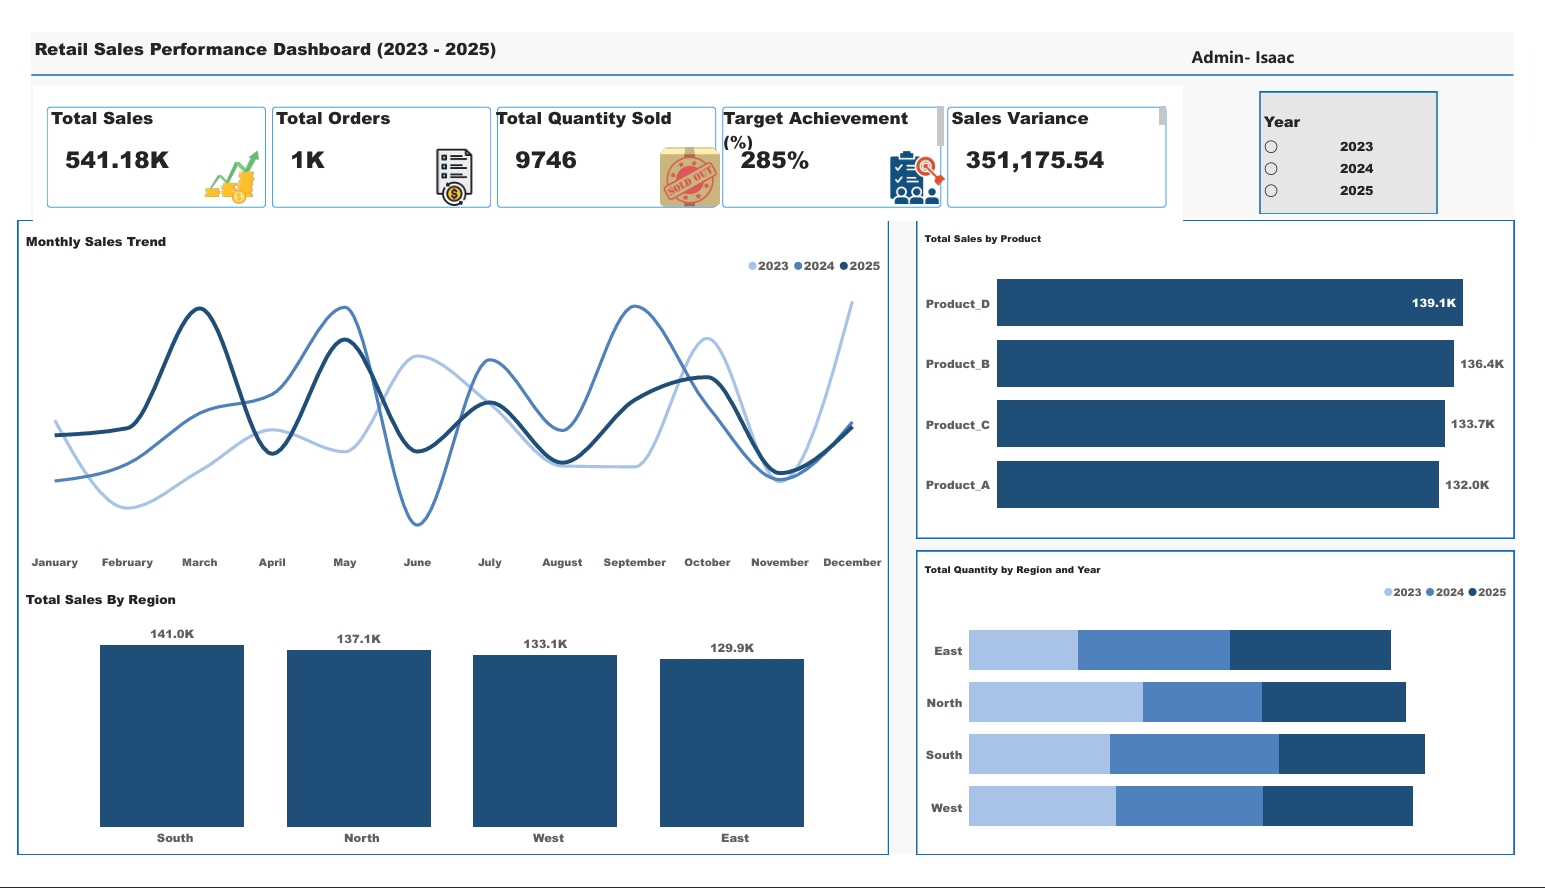

The page's visual inventory and layout, read from the dashboard file:
{"tool":"powerbi","page":{"name":"Page 1","canvas":[1920,1080],"ordinal":0},"visuals":[{"type":"shape","box":[0,0,1919,1081],"z":0},{"type":"shape","box":[16.7,19,1883.3,1042.9],"z":1000},{"type":"shape","box":[16.7,19,1883.3,107.1],"z":2000},{"type":"textbox","box":[16.3,18.6,672.1,107],"z":3000},{"type":"textbox","box":[1481,19,419,64.3],"z":4000},{"type":"shape","box":[0,256.7,1106.1,806.3],"z":5000},{"type":"shape","box":[1142.5,256.7,758.6,404.3],"z":6000},{"type":"shape","box":[1142.5,676.8,758.6,386.1],"z":7000},{"type":"lineChart","title":"Monthly Sales Trend","fields":{"Category":["Sales Data.OrderDate.Variation.Date Hierarchy.Month"],"Y":["Sum(Sales Data.TotalSales)"],"Series":["Sales Data.OrderDate.Variation.Date Hierarchy.Year"]},"box":[0,256.7,1106.1,454.3],"z":8000},{"type":"columnChart","title":"Total Sales By Region","fields":{"Category":["Sales Data.Region"],"Y":["Sum(Sales Data.TotalSales)"]},"box":[0,710.9,1106.1,352.1],"z":9000},{"type":"clusteredBarChart","title":" Total Sales by Product","fields":{"Category":["Sales Data.Product"],"Y":["Sum(Sales Data.TotalSales)"]},"box":[1142.5,256.7,756.3,404.3],"z":10000},{"type":"barChart","title":"Total Quantity by Region and Year","fields":{"Category":["Sales Data.Region","Sales Data.OrderDate.Variation.Date Hierarchy.Year","Sales Data.OrderDate.Variation.Date Hierarchy.Quarter","Sales Data.OrderDate.Variation.Date Hierarchy.Month","Sales Data.OrderDate.Variation.Date Hierarchy.Day"],"Y":["Sum(Sales Data.Quantity)"],"Series":["Sales Data.OrderDate.Variation.Date Hierarchy.Year"]},"box":[1142.5,676.8,758.6,383.9],"z":11000},{"type":"cardVisual","fields":{"Data":["Sales Data.Total Sales","CountNonNull(Sales Data.OrderID)","Sum(Sales Data.Quantity)","Sales Data.Sales Target achivement","Sales Data.Sales variance"]},"box":[20,85.6,1460,172.5],"z":12000},{"type":"shape","box":[1577.5,94.4,225,155],"z":13000},{"type":"listSlicer","fields":{"Values":["Sales Data.OrderDate.Variation.Date Hierarchy.Year"]},"box":[1577.5,107.5,222.5,132.5],"z":14000},{"type":"image","box":[234.9,165.1,74.4,74.4],"z":15000},{"type":"textbox","box":[37.2,107,286,58.1],"z":16000},{"type":"textbox","box":[323.3,107,279.1,58.1],"z":17000},{"type":"image","box":[507,165.1,95.3,74.4],"z":18000},{"type":"textbox","box":[602.3,107,288.4,58.1],"z":19000},{"type":"image","box":[816.3,165.1,74.4,74.4],"z":20000},{"type":"textbox","box":[890.7,107,290.7,65.1],"z":21000},{"type":"image","box":[1104.7,165.1,74.4,74.4],"z":22000},{"type":"textbox","box":[1181.4,107,281.4,32.6],"z":23000}]}

Visuals, with their boxes in screenshot pixels (x1, y1, x2, y2), scaled from the page's 1920x1080 canvas onto the 1545x888 screenshot:
shape: [left=0, top=0, right=1544, bottom=887]
shape: [left=13, top=16, right=1529, bottom=873]
shape: [left=13, top=16, right=1529, bottom=104]
textbox: [left=13, top=15, right=554, bottom=103]
textbox: [left=1192, top=16, right=1529, bottom=68]
shape: [left=0, top=211, right=890, bottom=874]
shape: [left=919, top=211, right=1530, bottom=543]
shape: [left=919, top=556, right=1530, bottom=874]
"Monthly Sales Trend" lineChart: [left=0, top=211, right=890, bottom=585]
"Total Sales By Region" columnChart: [left=0, top=585, right=890, bottom=874]
" Total Sales by Product" clusteredBarChart: [left=919, top=211, right=1528, bottom=543]
"Total Quantity by Region and Year" barChart: [left=919, top=556, right=1530, bottom=872]
cardVisual - Sales Data.Total Sales x CountNonNull(Sales Data.OrderID): [left=16, top=70, right=1191, bottom=212]
shape: [left=1269, top=78, right=1450, bottom=205]
listSlicer - Sales Data.OrderDate.Variation.Date Hierarchy.Year: [left=1269, top=88, right=1448, bottom=197]
image: [left=189, top=136, right=249, bottom=197]
textbox: [left=30, top=88, right=260, bottom=136]
textbox: [left=260, top=88, right=485, bottom=136]
image: [left=408, top=136, right=485, bottom=197]
textbox: [left=485, top=88, right=717, bottom=136]
image: [left=657, top=136, right=717, bottom=197]
textbox: [left=717, top=88, right=951, bottom=142]
image: [left=889, top=136, right=949, bottom=197]
textbox: [left=951, top=88, right=1177, bottom=115]
